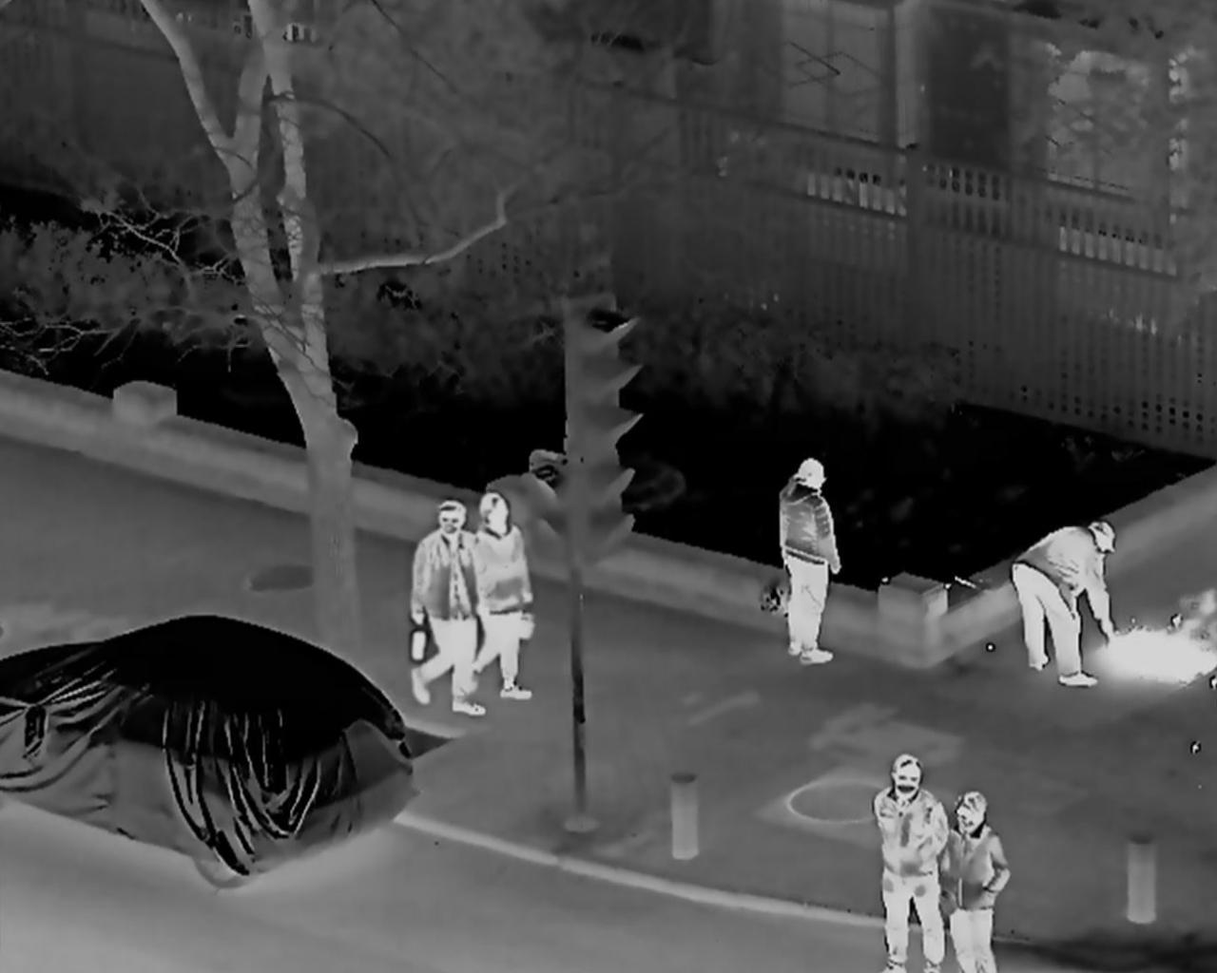person: (1009, 520, 1117, 687), (867, 756, 947, 973), (409, 499, 485, 718), (771, 456, 844, 671), (940, 792, 1014, 973), (473, 494, 534, 707)
